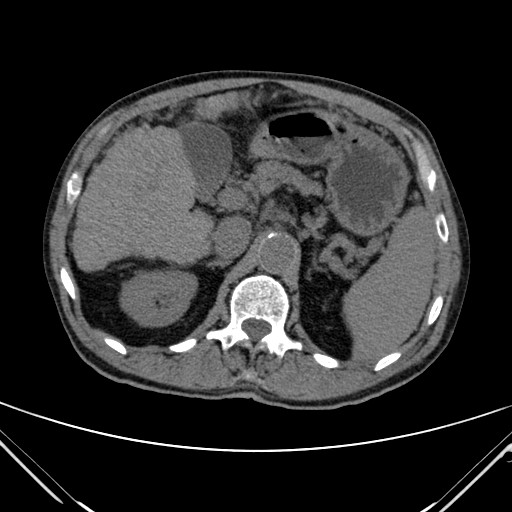vesicula: (179, 120, 236, 198)
